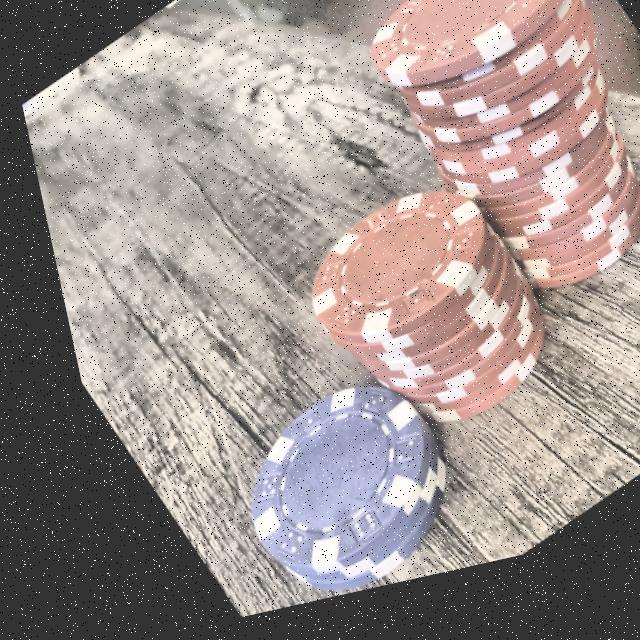Chip: (320, 0, 640, 363), (255, 161, 569, 491), (174, 355, 471, 622)
